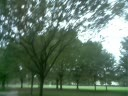window: (13, 55, 59, 96), (84, 70, 99, 96)
